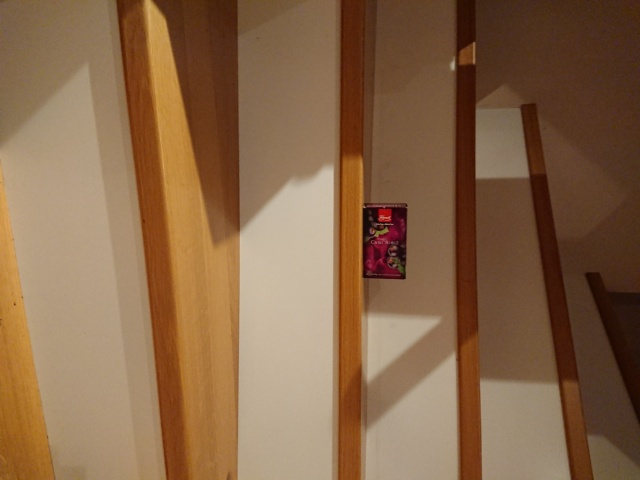Franck Black Currant Tea 60g: (359, 200, 410, 282)
